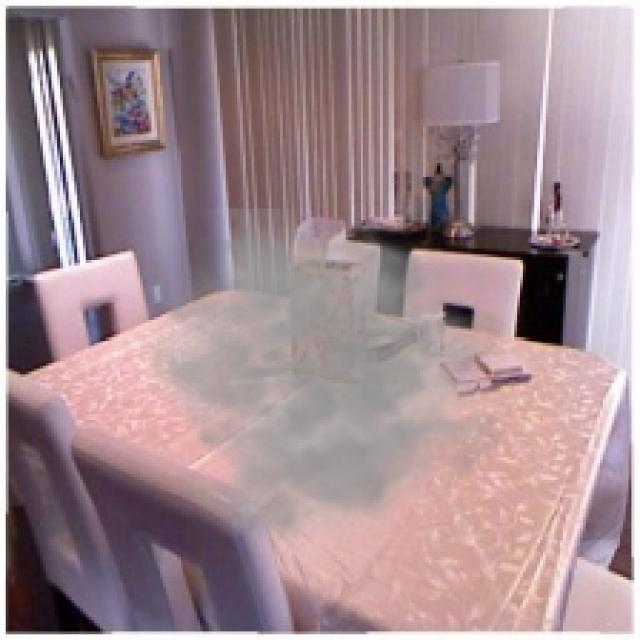smoke: (137, 208, 512, 572)
